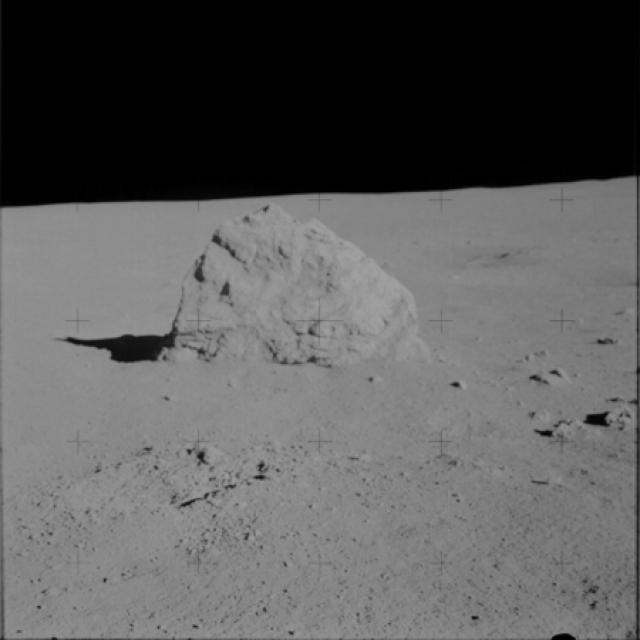rock: (132, 199, 444, 375), (593, 399, 637, 436), (184, 439, 234, 468), (522, 364, 570, 394), (540, 414, 586, 443), (357, 368, 394, 386), (593, 332, 625, 347), (158, 384, 178, 406), (446, 375, 470, 393)
